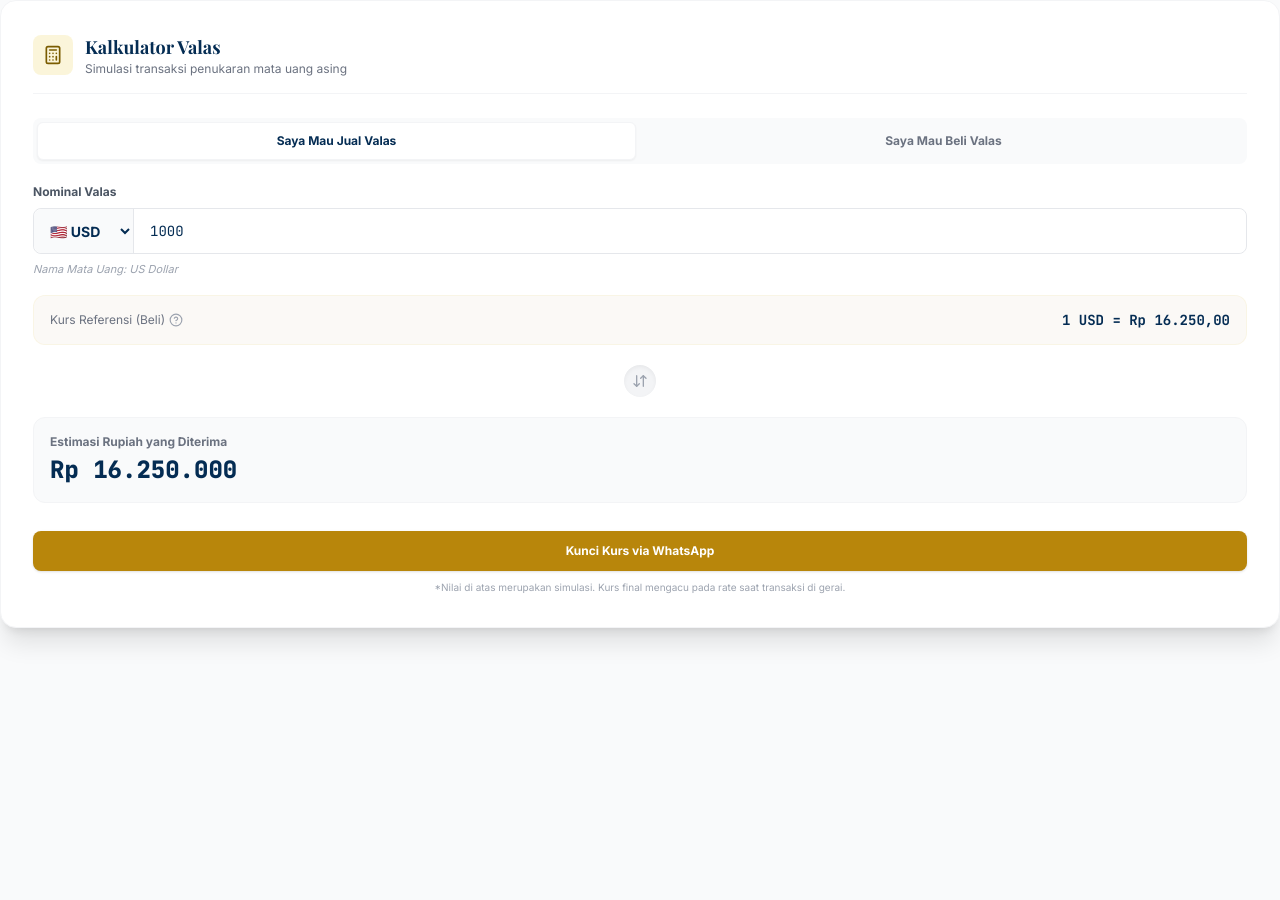
Test case: KalkCalc Component › should handle unit scaling calculation for Won (KRW - quoted per 1000)
Select "🇰🇷 KRW" in the dropdown: (84,231) [34,209,134,253]
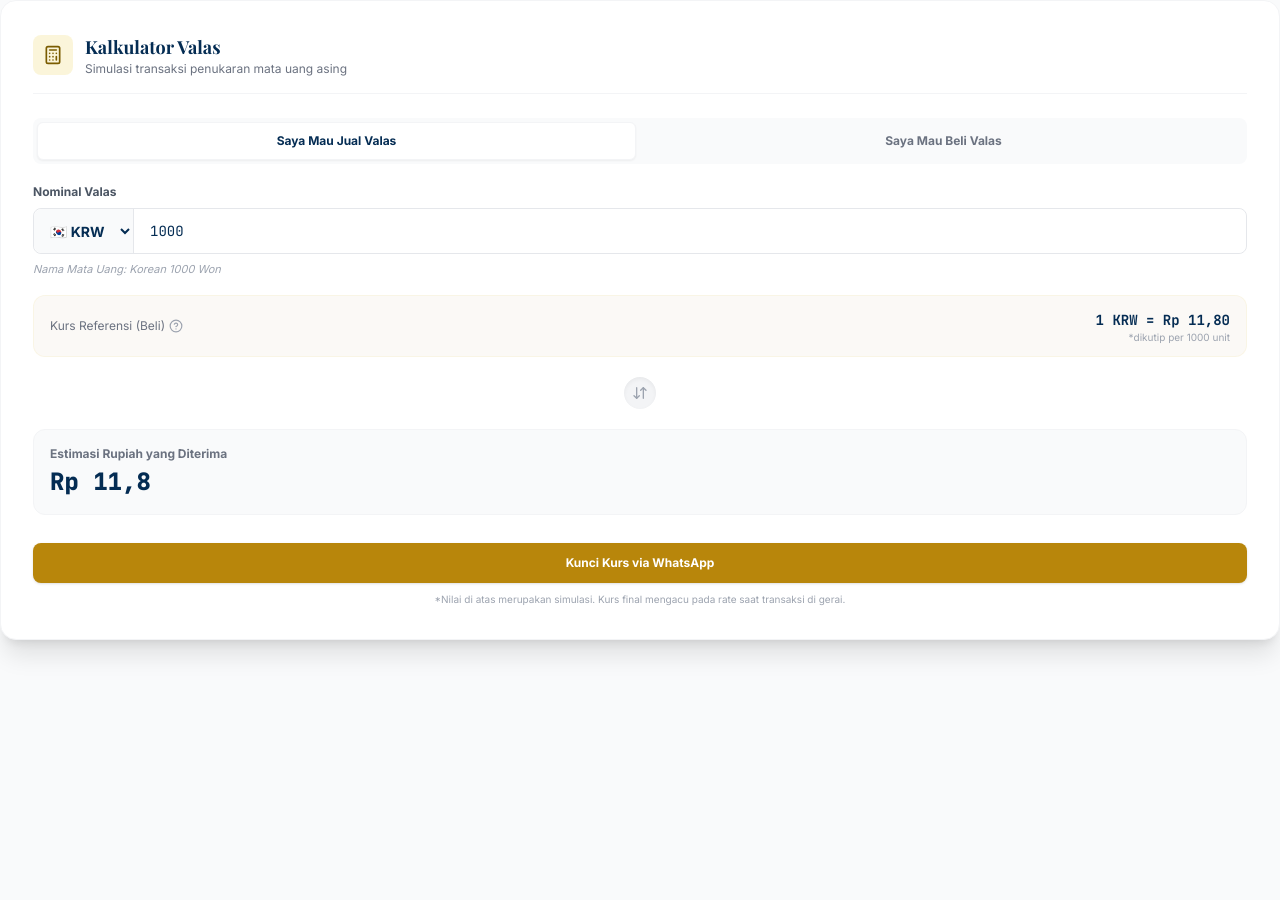
Check: the text "1 KRW = Rp 11,80 *dikutip per 1000 unit" is shown, box [1096,310,1230,342]
